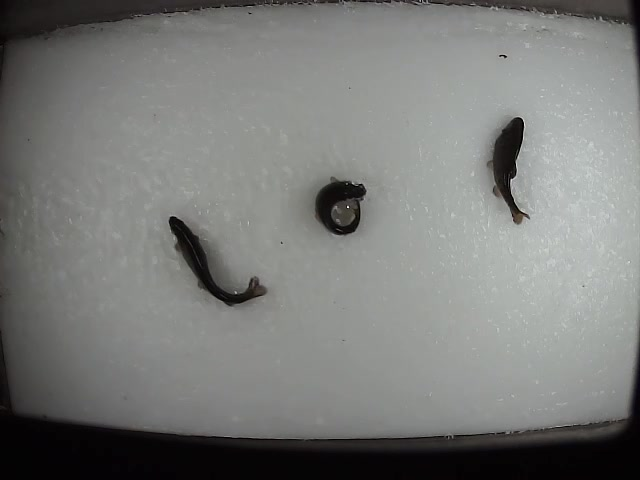fish: (164, 214, 271, 309), (483, 113, 533, 227), (312, 174, 366, 238)
